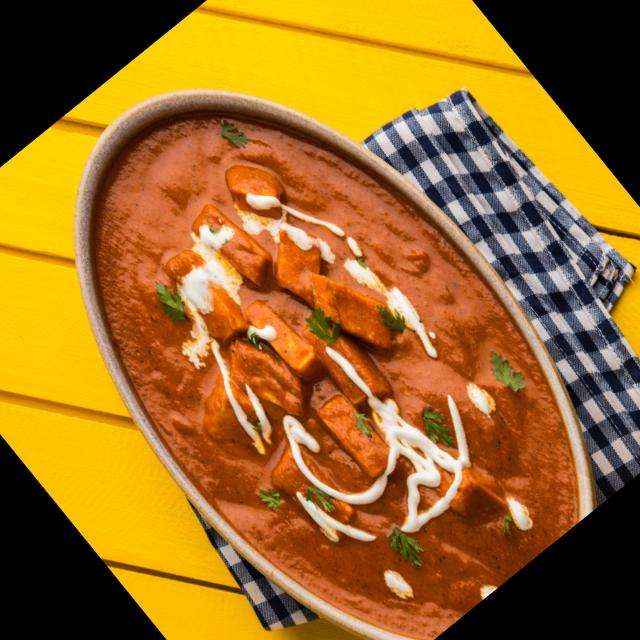ShahiPaneer: (5, 28, 639, 640)
